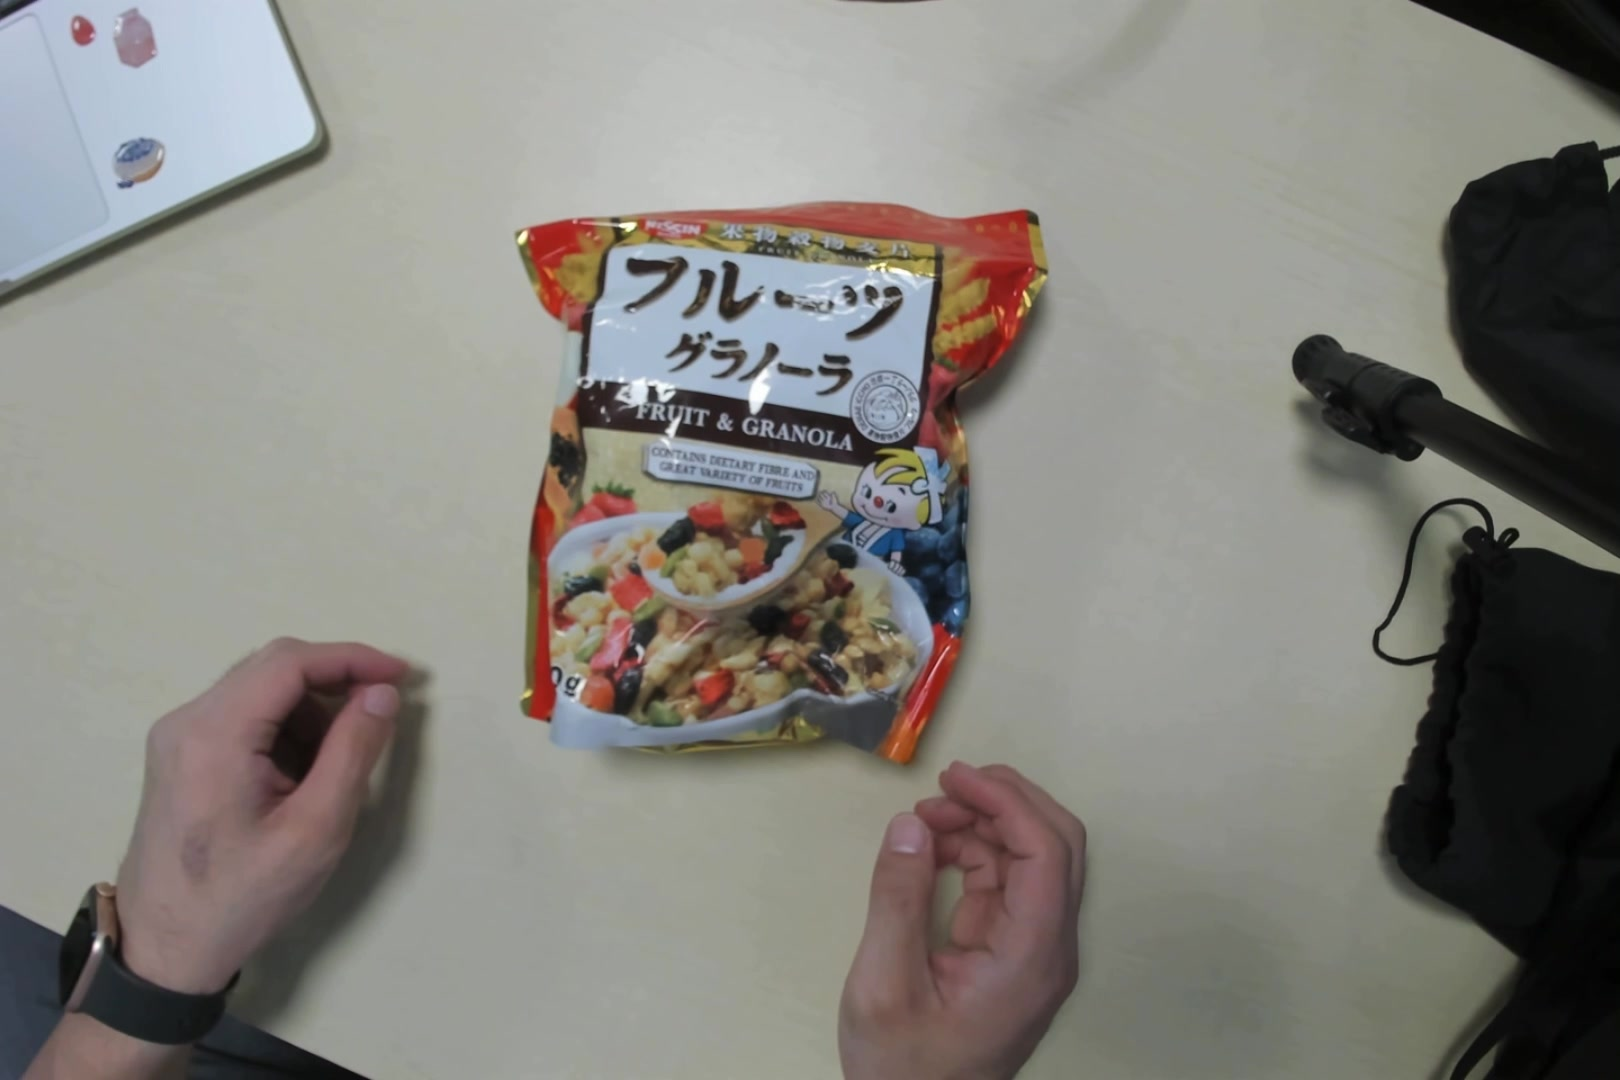BreakfastCereals_300-399g_NonHalal_NonHealthy: (509, 190, 1012, 759)
